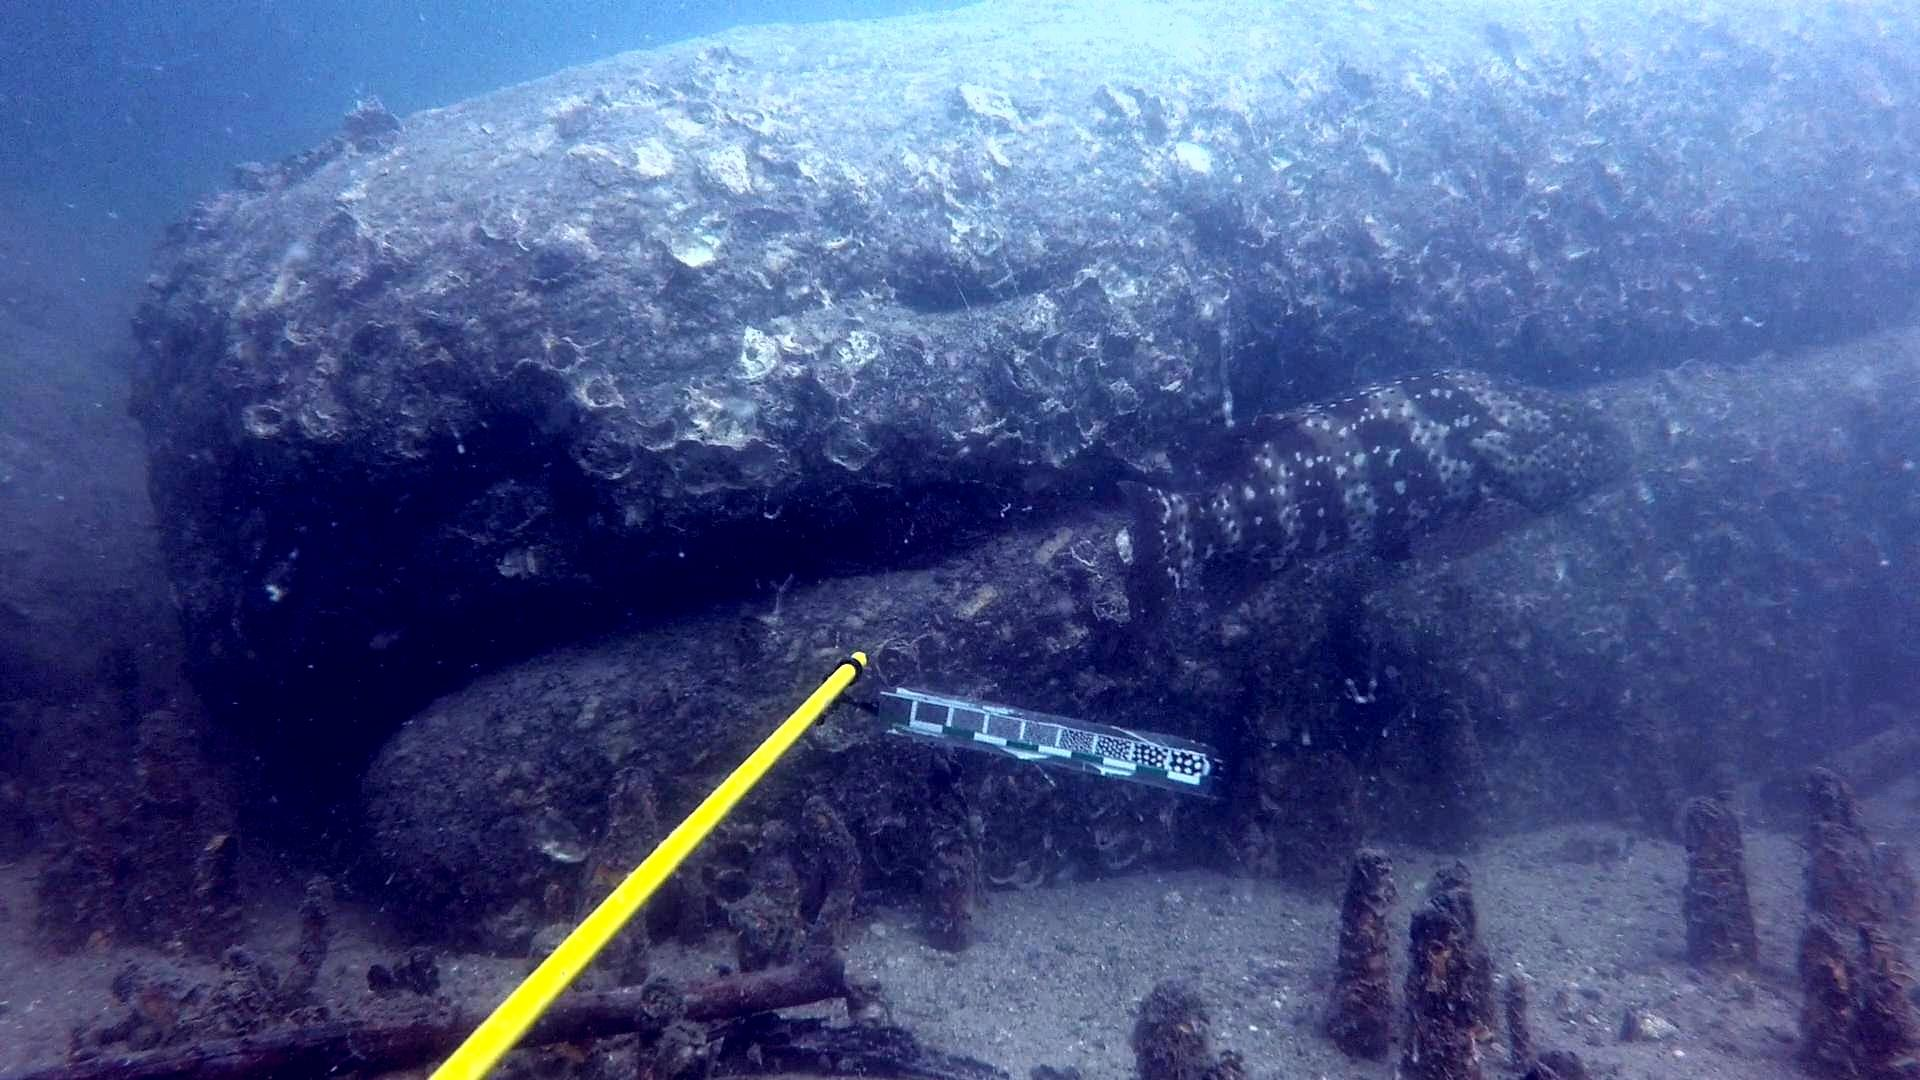epinephelus: (1110, 365, 1644, 656)
